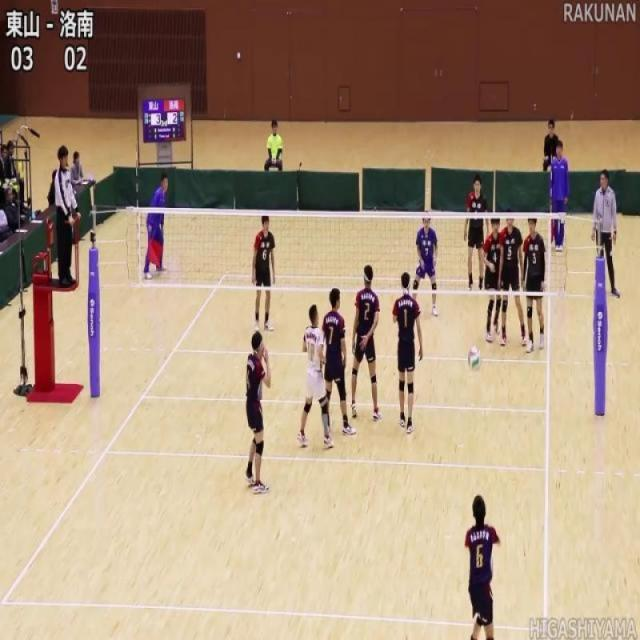volleyball: (467, 344, 482, 372)
